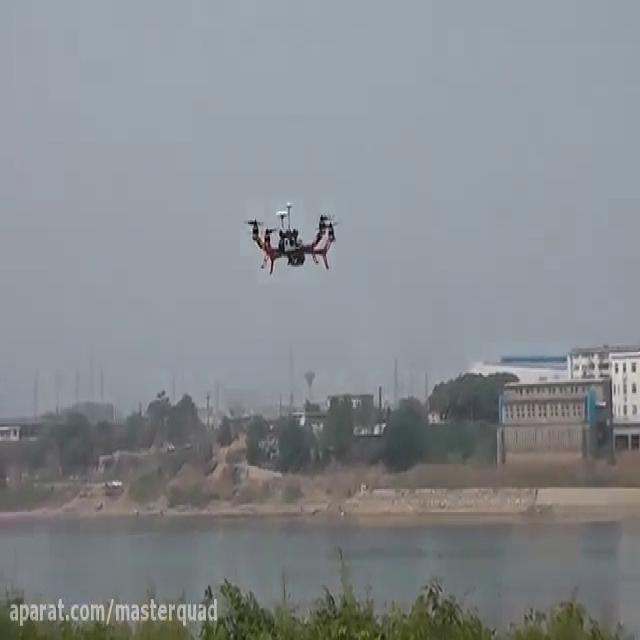drone: (239, 196, 345, 279)
